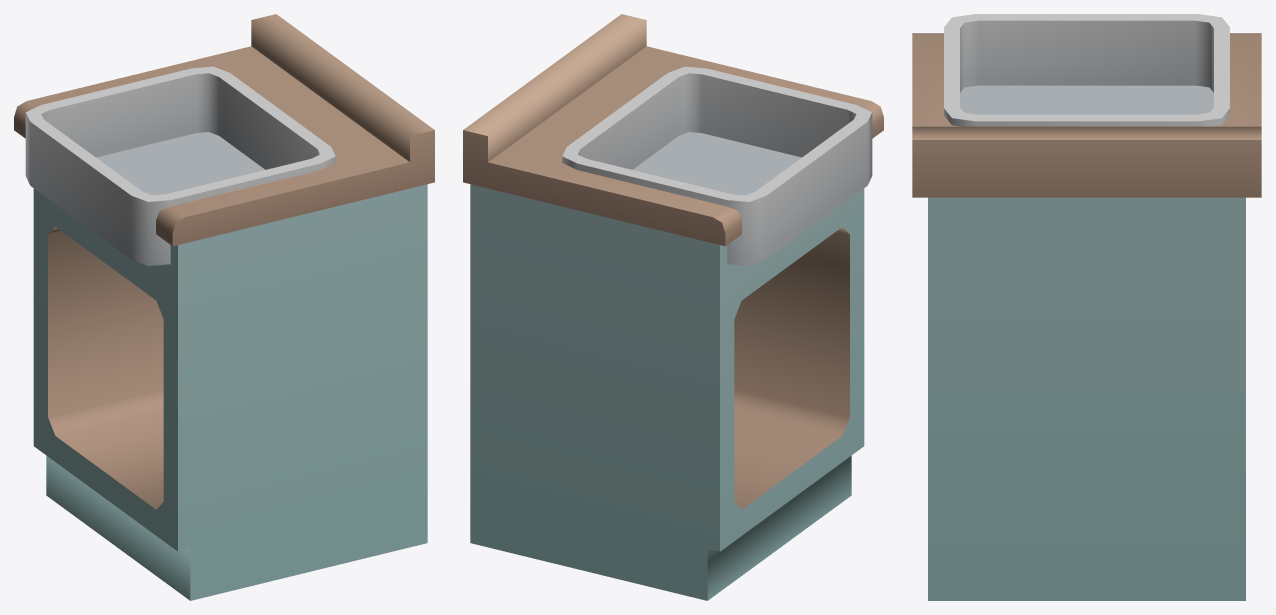
The model's file is cabinet-decorative-sink-large.glb.
3 views of the same model, side by side, from view 1: azimuth 30°, elevation 25°; view 2: azimuth 150°, elevation 25°; view 3: azimuth 270°, elevation 25° (orthographic). The views are drawn at different scales.
Parts seen in each view (by area): view 1: cabinet-decorative-sink-large; view 2: cabinet-decorative-sink-large; view 3: cabinet-decorative-sink-large.
Part boxes in pixels (bbox=[...]): cabinet-decorative-sink-large: bbox=[14, 14, 434, 600]; cabinet-decorative-sink-large: bbox=[463, 14, 883, 600]; cabinet-decorative-sink-large: bbox=[912, 14, 1261, 600].
Size of the model in its own units: 0.55 by 0.8 by 0.55.
